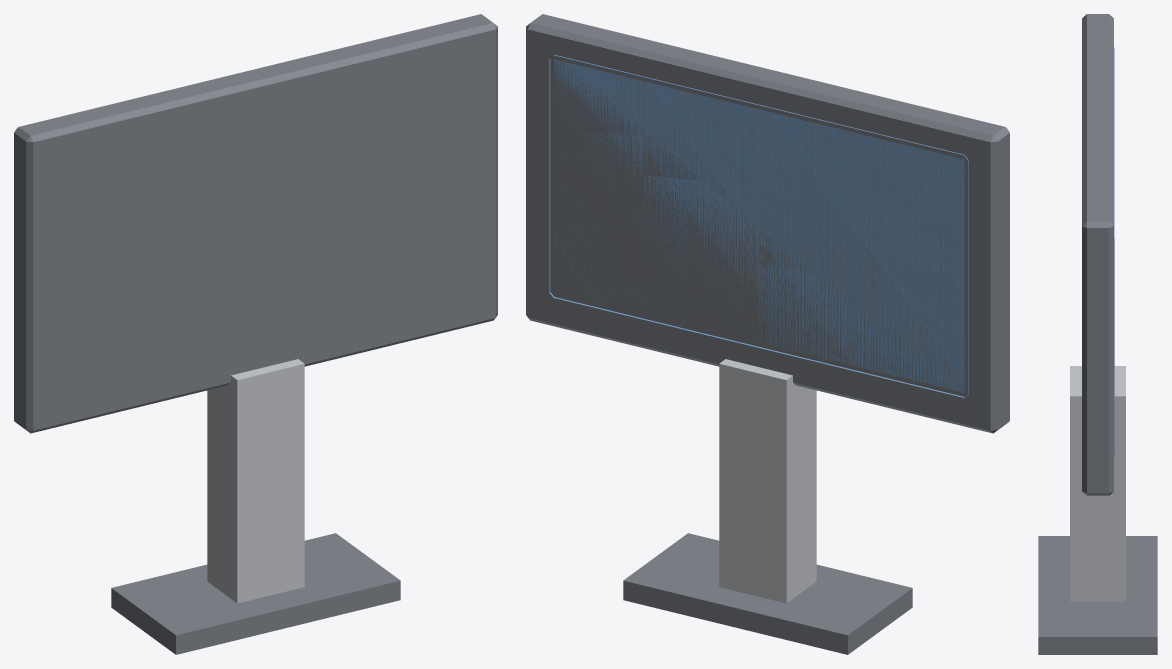
3 views of the same model, side by side, from view 1: azimuth 30°, elevation 25°; view 2: azimuth 150°, elevation 25°; view 3: azimuth 270°, elevation 25° (orthographic). The views are drawn at different scales.
Visible parts, largest first — view 1: 边框.001, 电视立柱, 电视底盘; view 2: 边框.001, 画面, 电视立柱, 电视底盘; view 3: 边框.001, 电视底盘, 电视立柱, 画面.
Part boxes in pixels (x1,y1,x2,y2): 边框.001: (14,14,497,433); 电视立柱: (207,359,304,603); 电视底盘: (111,533,400,654); 边框.001: (526,14,1009,433); 画面: (549,54,968,397); 电视立柱: (719,359,816,603); 电视底盘: (623,533,912,654); 边框.001: (1082,14,1113,495); 电视底盘: (1038,536,1157,654); 电视立柱: (1070,366,1125,601); 画面: (1114,47,1114,454).
Size of the model in its own units: 126 by 135 by 30.
